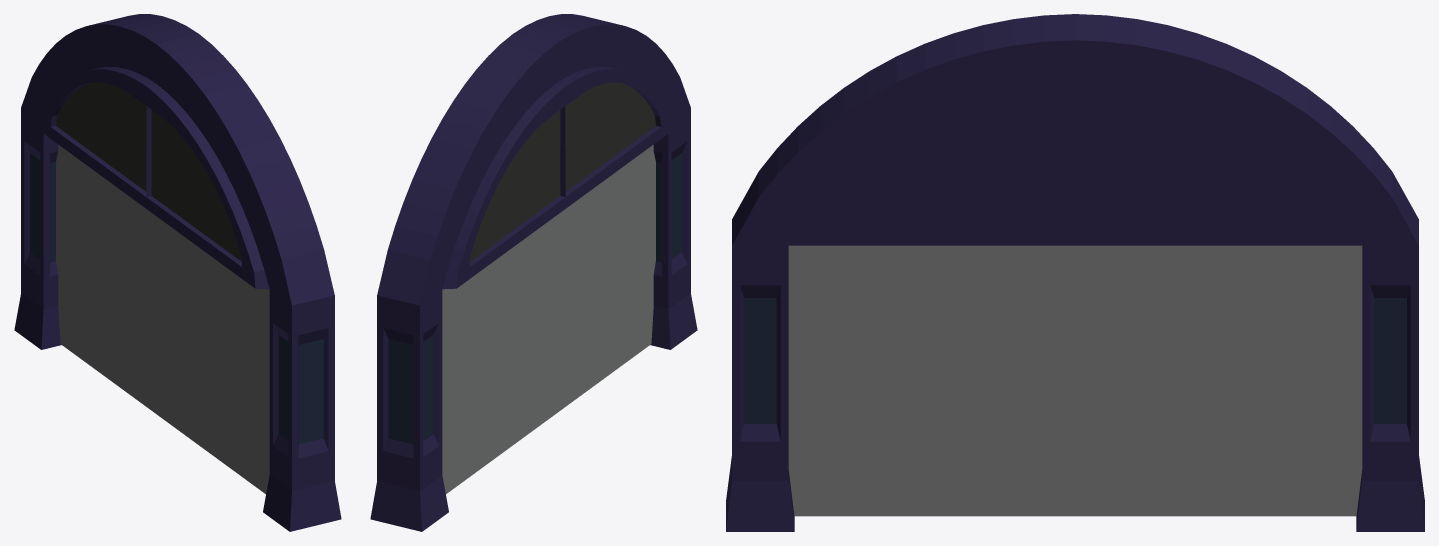
File: KAPI.fbx
The picture shows the model from 3 angles, left to right: view 1: azimuth 30°, elevation 25°; view 2: azimuth 150°, elevation 25°; view 3: azimuth 270°, elevation 25°; orthographic projection. The views are drawn at different scales.
Parts seen in each view (by area): view 1: Cube, Cube.001; view 2: Cube, Cube.001; view 3: Cube.001, Cube.
Part boxes in pixels (x1=…): Cube: x1=14, y1=14, x2=341, y2=531; Cube.001: x1=56, y1=145, x2=269, y2=493; Cube: x1=370, y1=14, x2=697, y2=531; Cube.001: x1=442, y1=145, x2=655, y2=493; Cube.001: x1=788, y1=245, x2=1362, y2=516; Cube: x1=726, y1=14, x2=1424, y2=531.
Size of the model in its own units: 133 by 852 by 1104.
